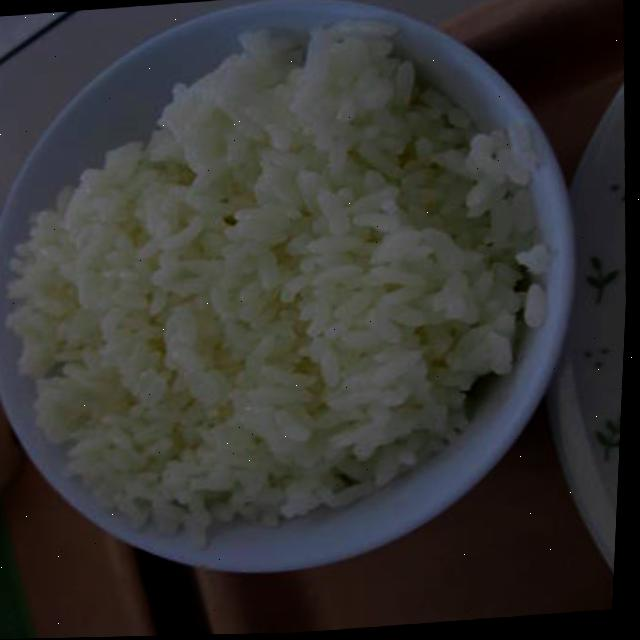米饭主食: (0, 0, 622, 615)
